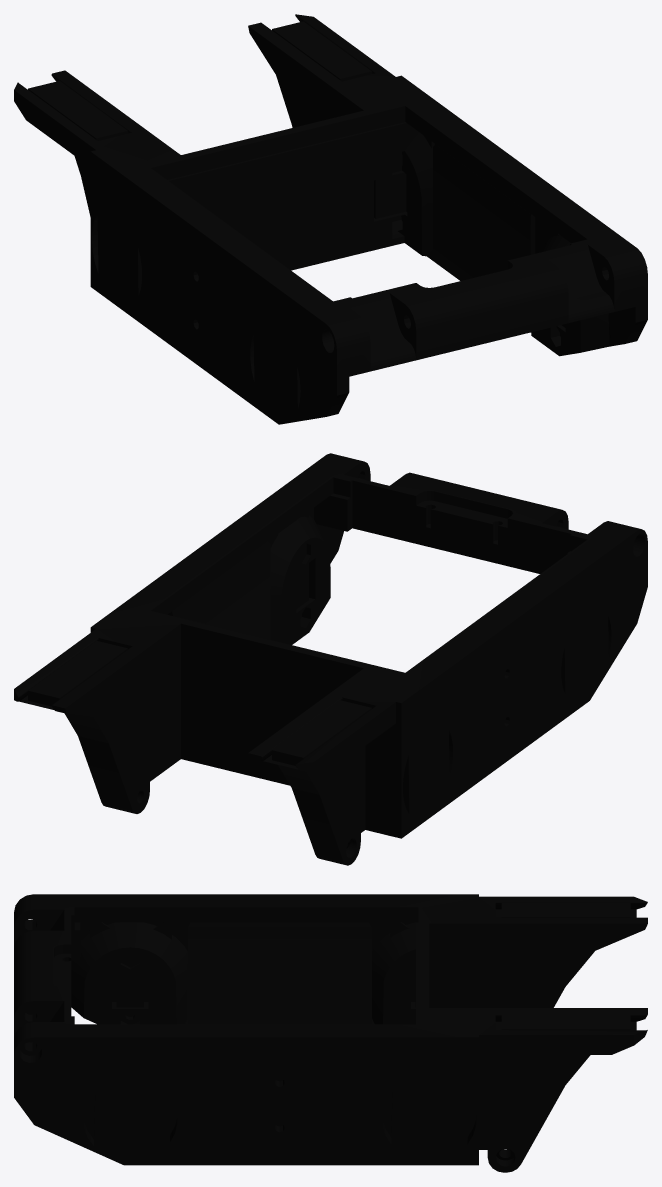
Rendered from p_korpus.fbx.
The picture shows the model from 3 angles, top to bottom: view 1: azimuth 30°, elevation 25°; view 2: azimuth 150°, elevation 25°; view 3: azimuth 270°, elevation 25°; orthographic projection. The views are drawn at different scales.
Parts seen in each view (by area): view 1: korpus.001; view 2: korpus.001; view 3: korpus.001.
Part boxes in pixels (x1,y1,x2,y2): korpus.001: (14,14,647,424); korpus.001: (14,453,647,865); korpus.001: (14,894,647,1172).
Bounding box in the file's own units: 10.2 × 5 × 19.08.
Materials: 1 (1 with a texture image).
